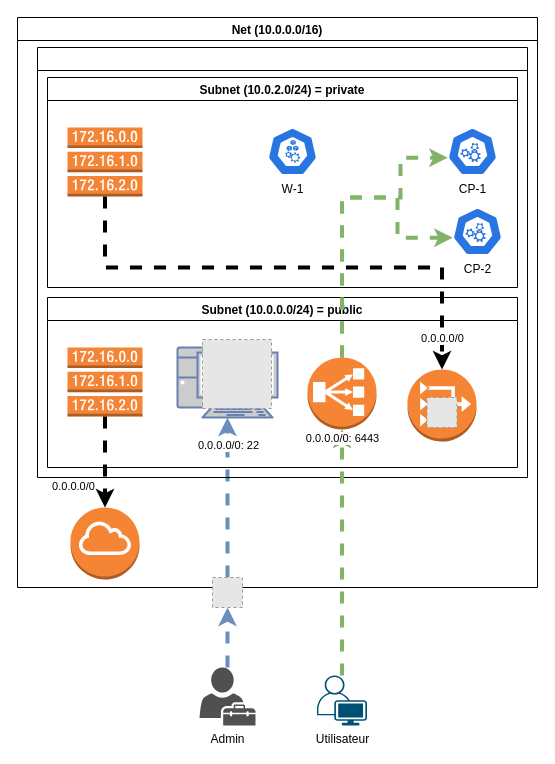
The diagram is 555 pixels wide and 764 high, and some of its shapes have lost their labels. Grey dashed boxes stand in for pictures. Here are the shapes that lost their labels. From the top down, the box of each, then its label:
(36, 46, 528, 478): AZ
(176, 346, 278, 418): rancher-server
(406, 368, 476, 442): NAT
(70, 506, 140, 580): InternetService
